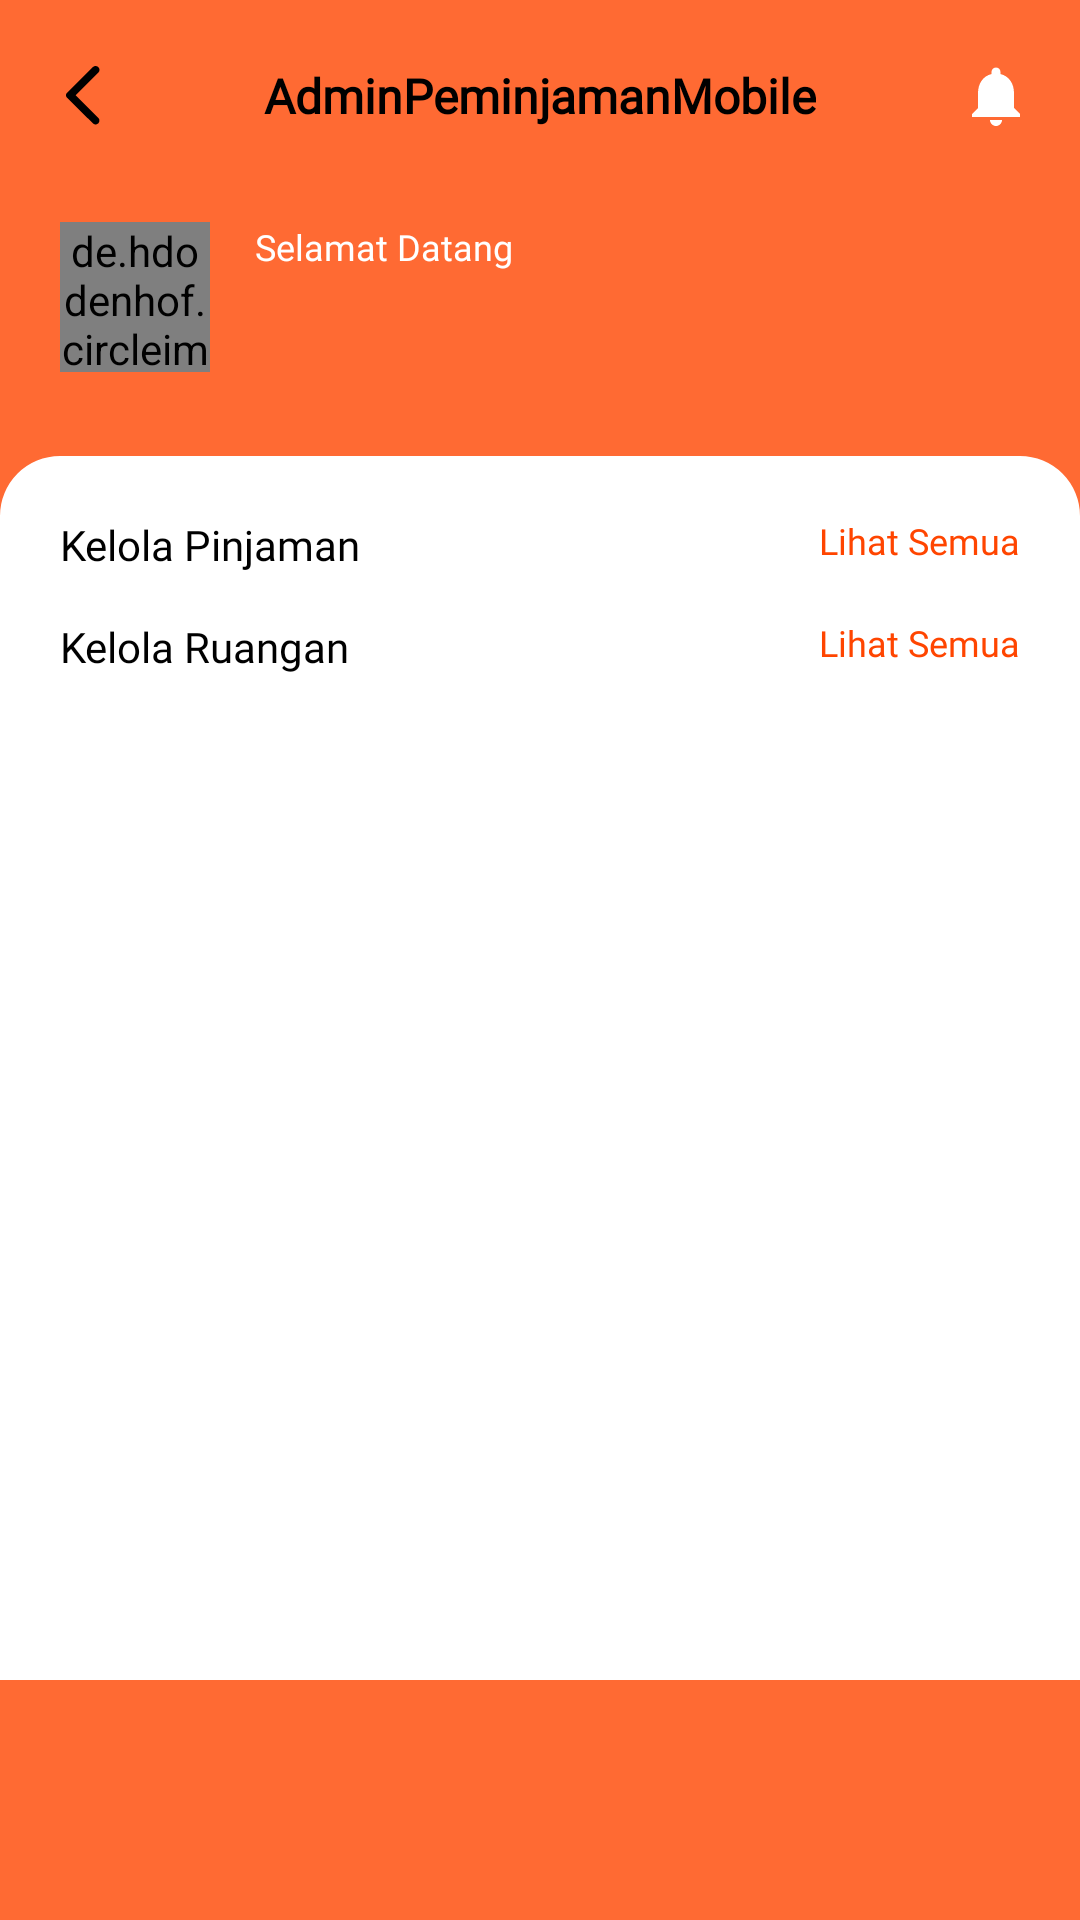

Icons on this 1080 × 1920 Android screen, each with its box as (x1, y1, x2, y2):
arrow back: (66, 66, 100, 125)
notification: (972, 67, 1020, 126)
